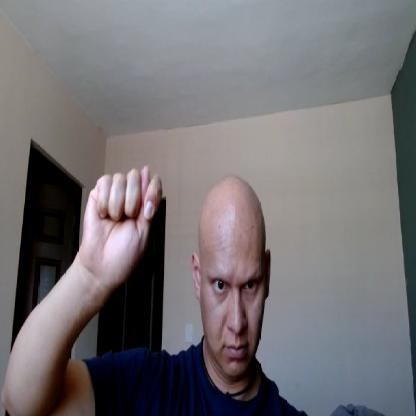T: (84, 165, 163, 285)
